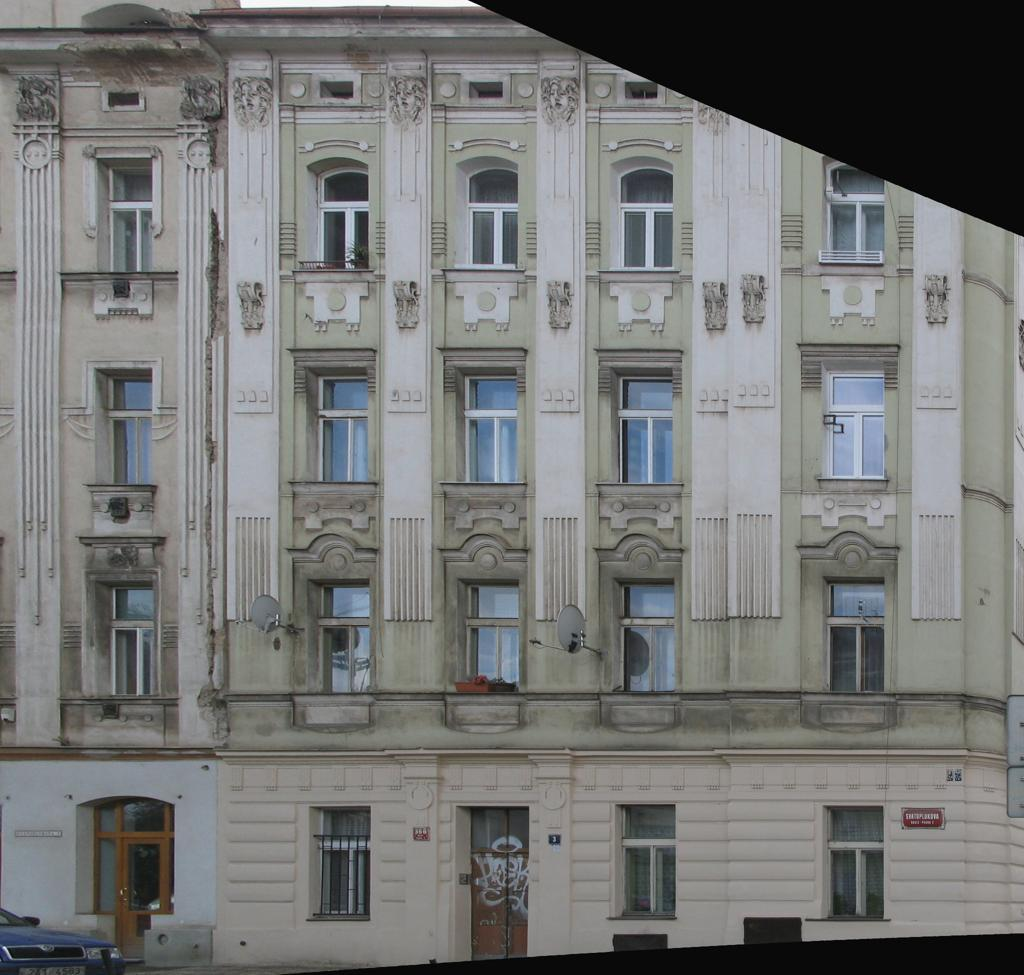window: (453, 155, 518, 270), (822, 803, 885, 919), (610, 157, 674, 271), (823, 145, 884, 264), (456, 579, 519, 694), (306, 157, 370, 270), (306, 367, 368, 483), (613, 367, 675, 483), (824, 364, 886, 480), (307, 807, 369, 923), (613, 804, 675, 920), (456, 369, 518, 484), (308, 579, 370, 694), (614, 579, 676, 694), (823, 578, 885, 693), (93, 580, 152, 697), (94, 369, 152, 486), (96, 157, 152, 272)
